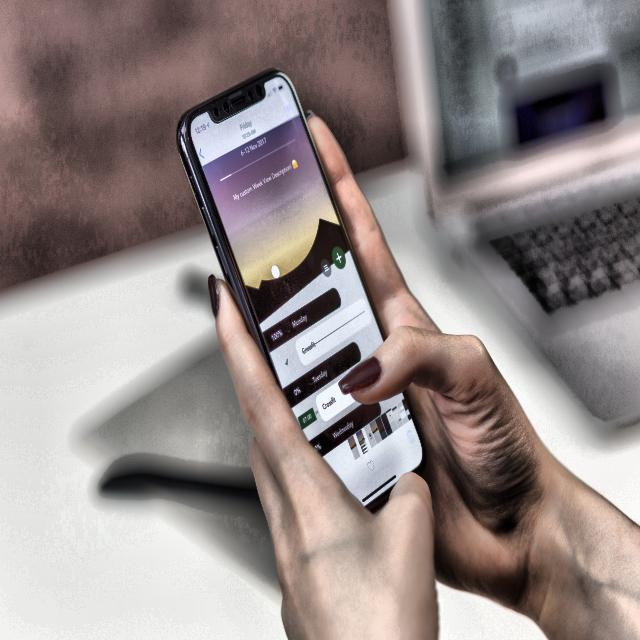Phone: (177, 66, 429, 515)
